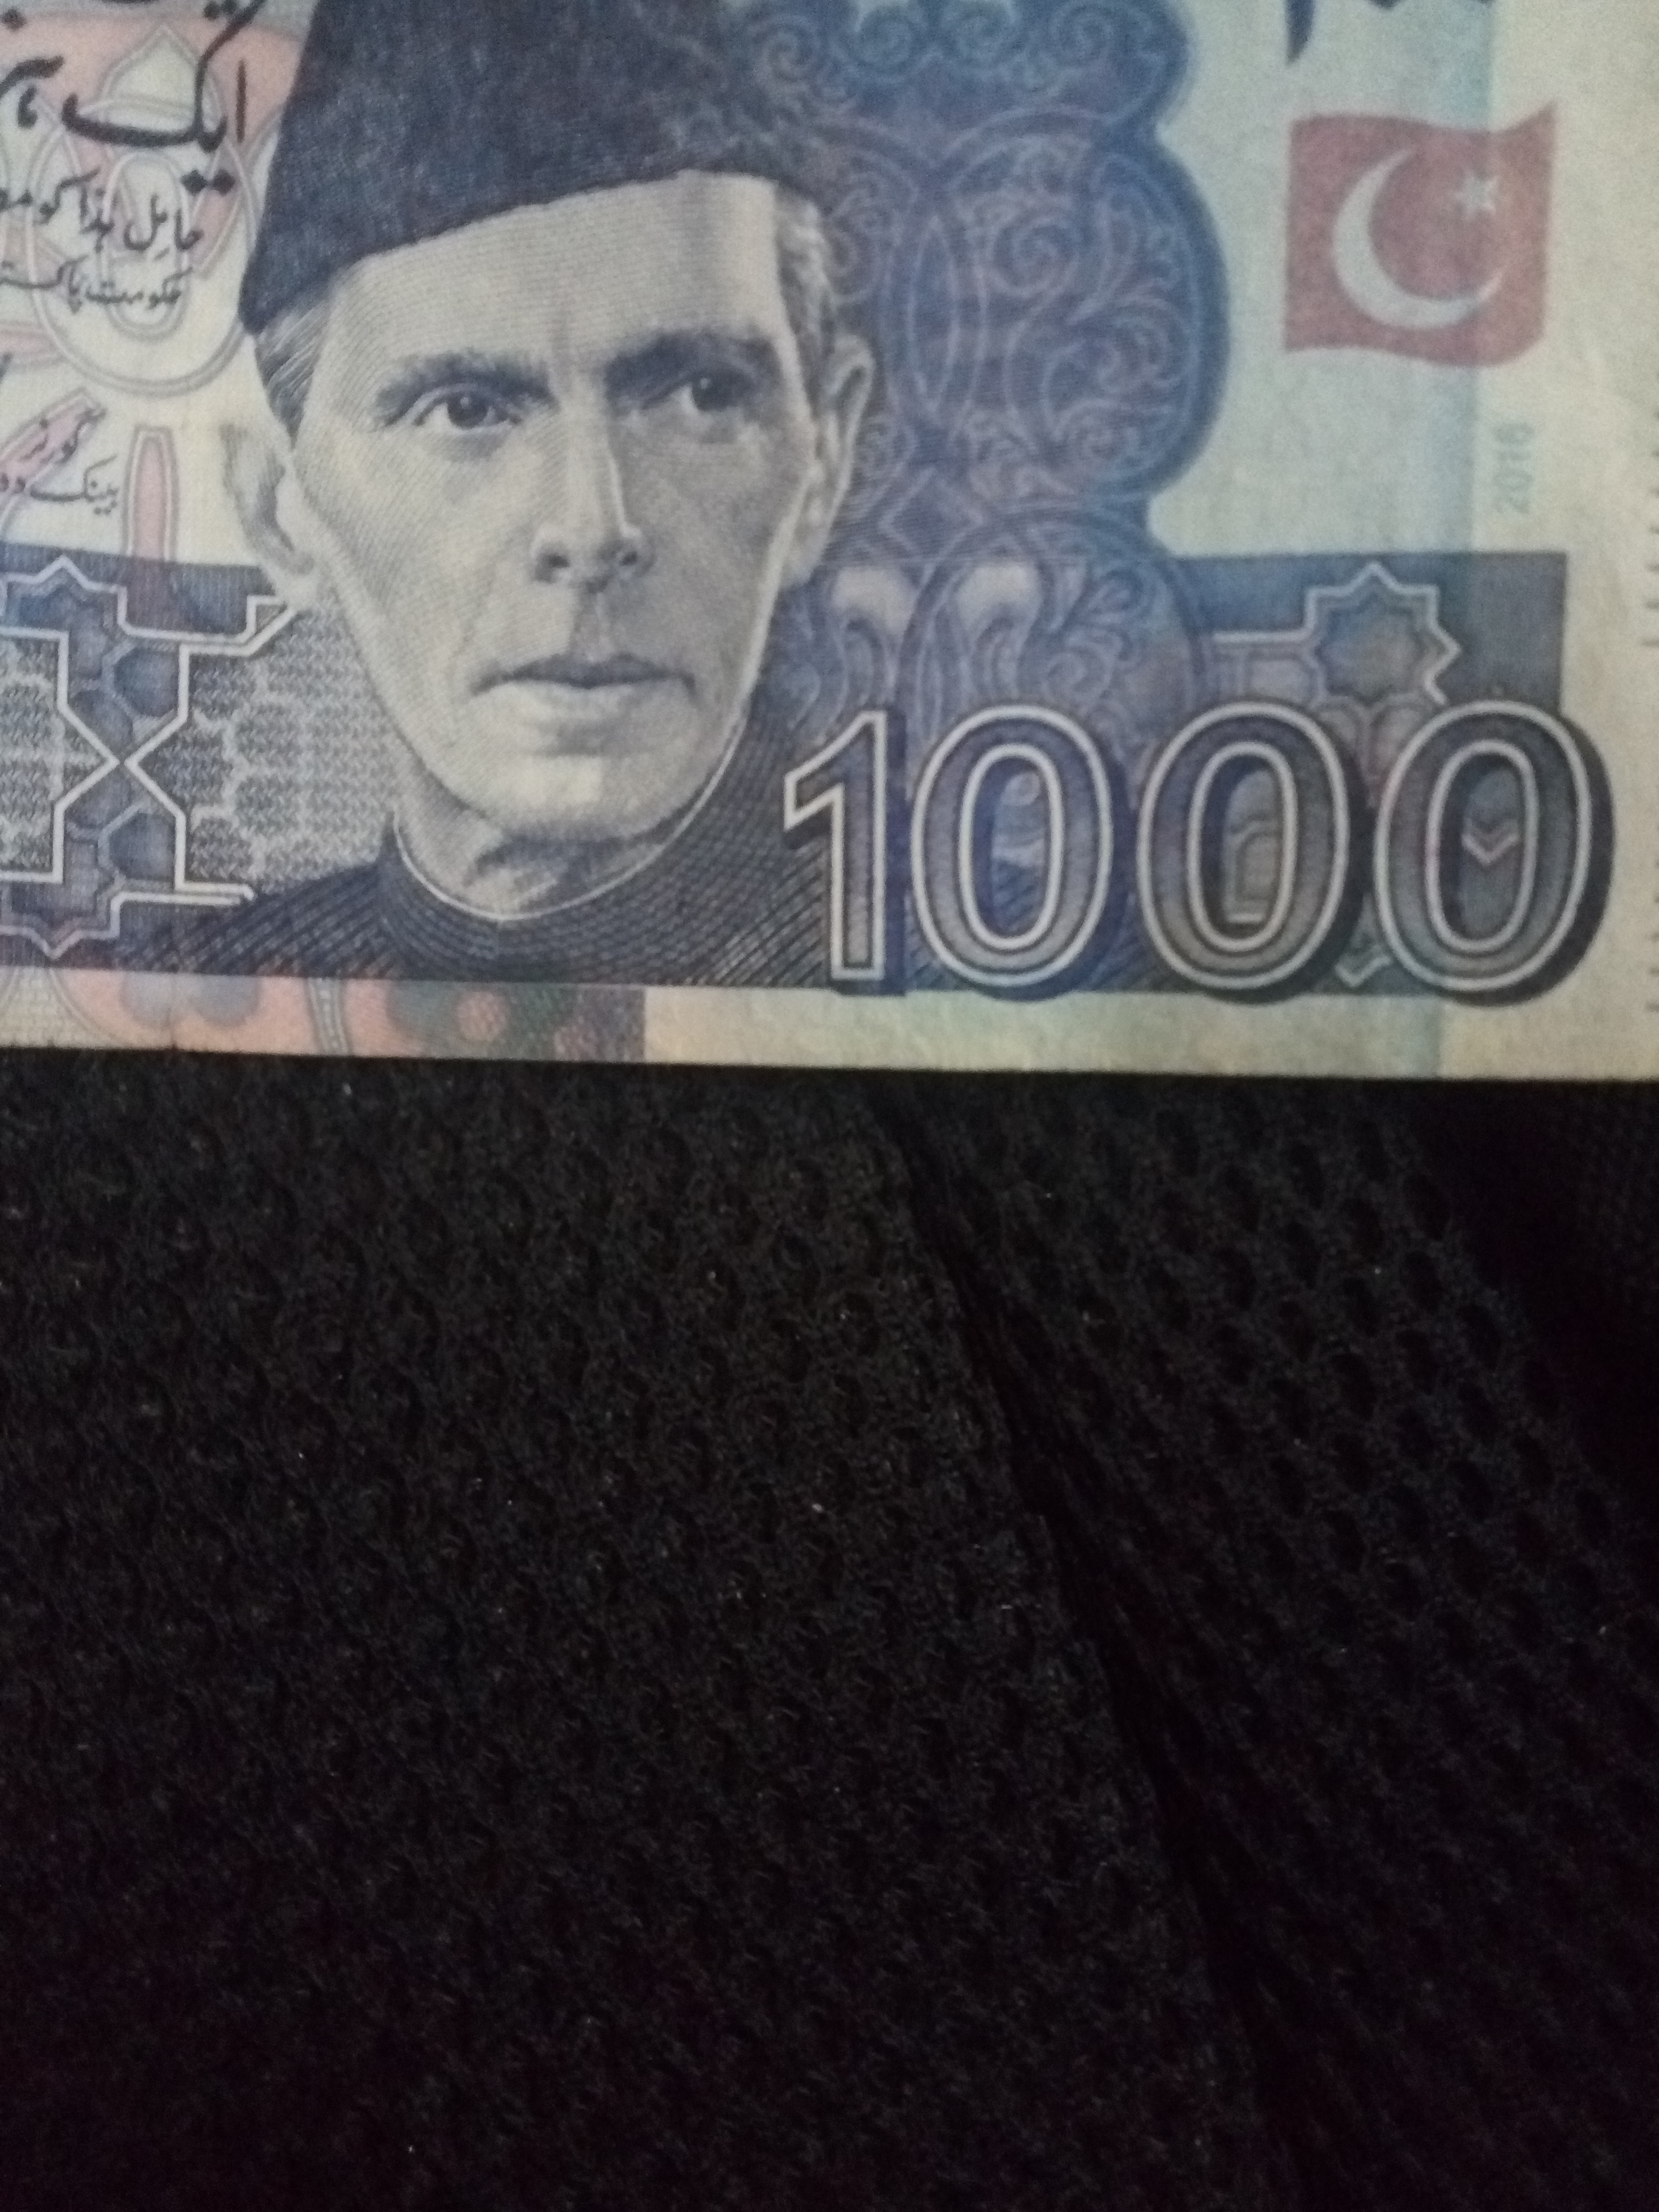1000 rupee: (16, 33, 1659, 1054), (655, 547, 1643, 1026), (1093, 66, 1649, 470)
